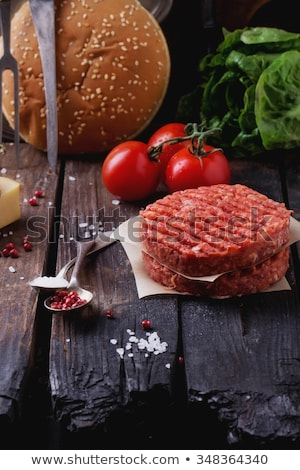ground_beef: (136, 188, 292, 298)
